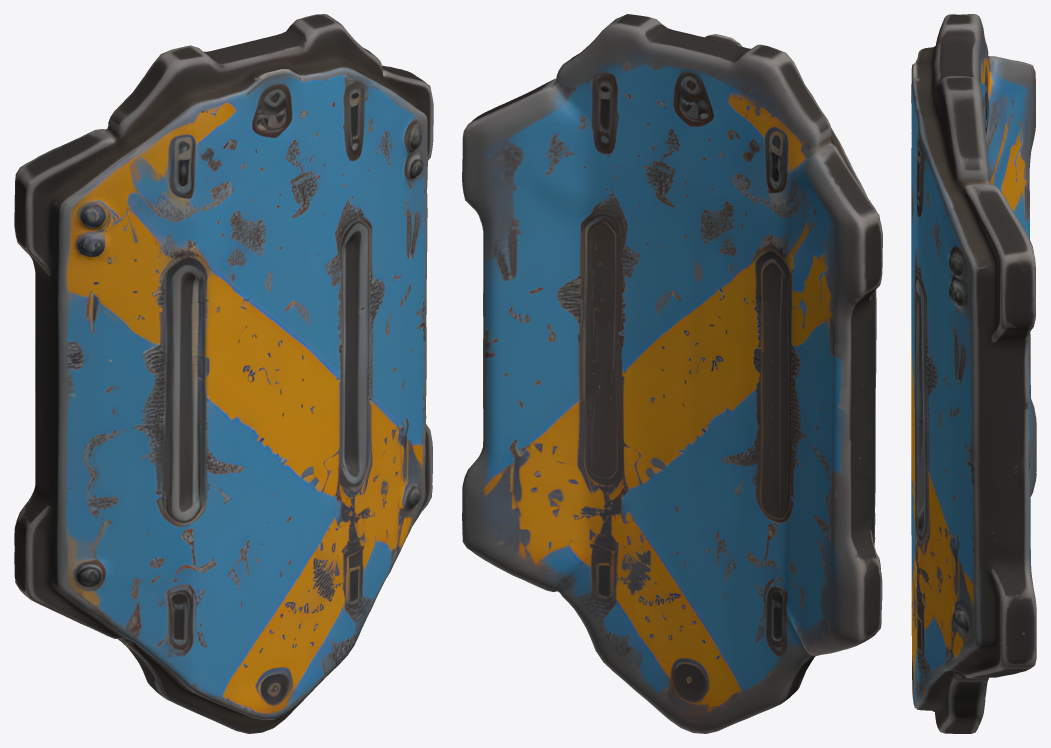
File: base_basic_pbr.fbx
3 views of the same model, side by side, from view 1: azimuth 30°, elevation 25°; view 2: azimuth 150°, elevation 25°; view 3: azimuth 270°, elevation 25° (orthographic).
Parts seen in each view (by area): view 1: model; view 2: model; view 3: model.
Part boxes in pixels (x1,y1,x2,y2): model: (14, 14, 433, 733); model: (462, 14, 882, 733); model: (911, 14, 1036, 733).
Bounding box in the file's own units: 117 × 191 × 31.84.
Materials: 1 (1 with a texture image).
